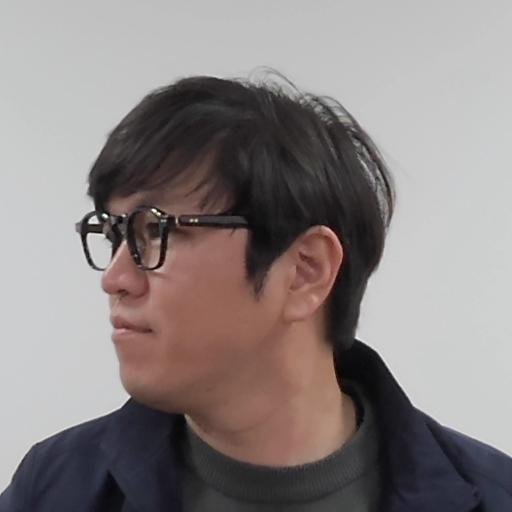no_glasses: (71, 84, 389, 410)
